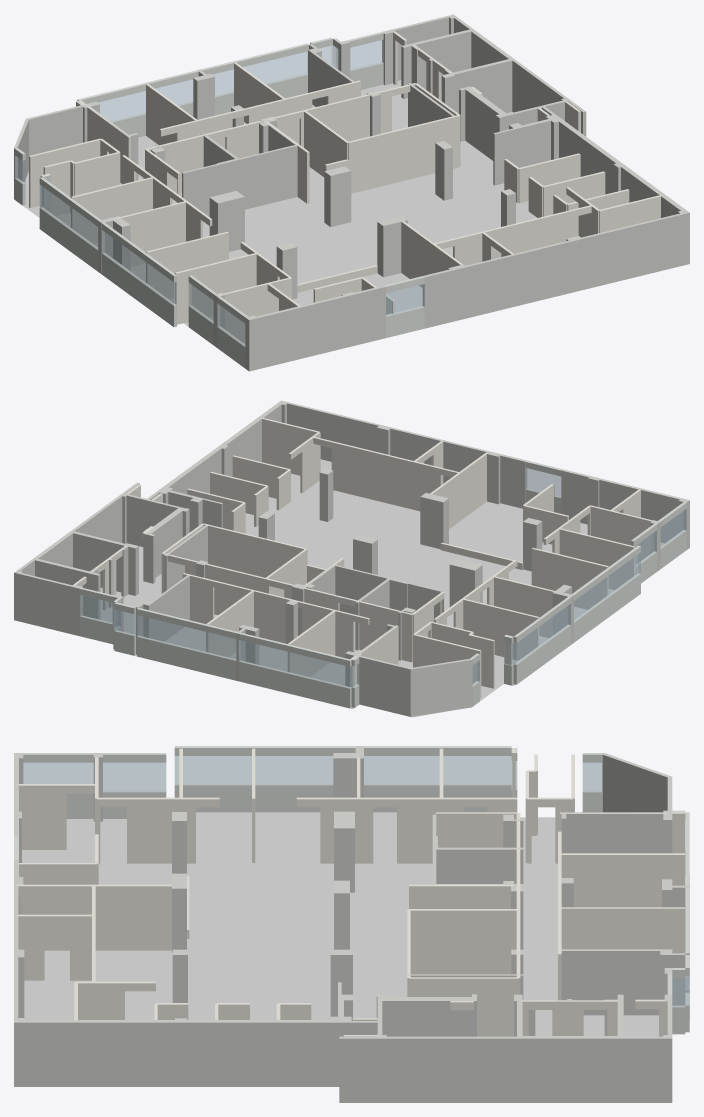
File: 07-vector-walls.glb
The picture shows the model from 3 angles, top to bottom: view 1: azimuth 30°, elevation 25°; view 2: azimuth 150°, elevation 25°; view 3: azimuth 270°, elevation 25°; orthographic projection. The views are drawn at different scales.
Parts seen in each view (by area): view 1: Floor4_07-vector-walls_concrete_Blocking, Floor4_07-vector-walls_partition_Blocking, Floor4_07-vector-walls_Floor, Floor4_07-vector-walls_wall_Blocking, Floor4_07-vector-walls_glass_Blocking; view 2: Floor4_07-vector-walls_partition_Blocking, Floor4_07-vector-walls_concrete_Blocking, Floor4_07-vector-walls_Floor, Floor4_07-vector-walls_wall_Blocking, Floor4_07-vector-walls_glass_Blocking; view 3: Floor4_07-vector-walls_concrete_Blocking, Floor4_07-vector-walls_partition_Blocking, Floor4_07-vector-walls_Floor, Floor4_07-vector-walls_wall_Blocking, Floor4_07-vector-walls_glass_Blocking.
Part boxes in pixels (x1,y1,x2,y2): Floor4_07-vector-walls_concrete_Blocking: (14, 14, 689, 371); Floor4_07-vector-walls_partition_Blocking: (29, 31, 662, 341); Floor4_07-vector-walls_Floor: (23, 80, 537, 343); Floor4_07-vector-walls_wall_Blocking: (15, 32, 424, 368); Floor4_07-vector-walls_glass_Blocking: (15, 40, 424, 346); Floor4_07-vector-walls_partition_Blocking: (73, 418, 652, 698); Floor4_07-vector-walls_concrete_Blocking: (14, 400, 689, 716); Floor4_07-vector-walls_Floor: (100, 459, 664, 717); Floor4_07-vector-walls_wall_Blocking: (80, 460, 686, 708); Floor4_07-vector-walls_glass_Blocking: (80, 468, 686, 688); Floor4_07-vector-walls_concrete_Blocking: (14, 746, 689, 1102); Floor4_07-vector-walls_partition_Blocking: (16, 748, 684, 1036); Floor4_07-vector-walls_Floor: (22, 812, 689, 1036); Floor4_07-vector-walls_wall_Blocking: (14, 746, 689, 1034); Floor4_07-vector-walls_glass_Blocking: (23, 756, 689, 1007).
Size of the model in its own units: 23.41 by 2.4 by 22.85.
